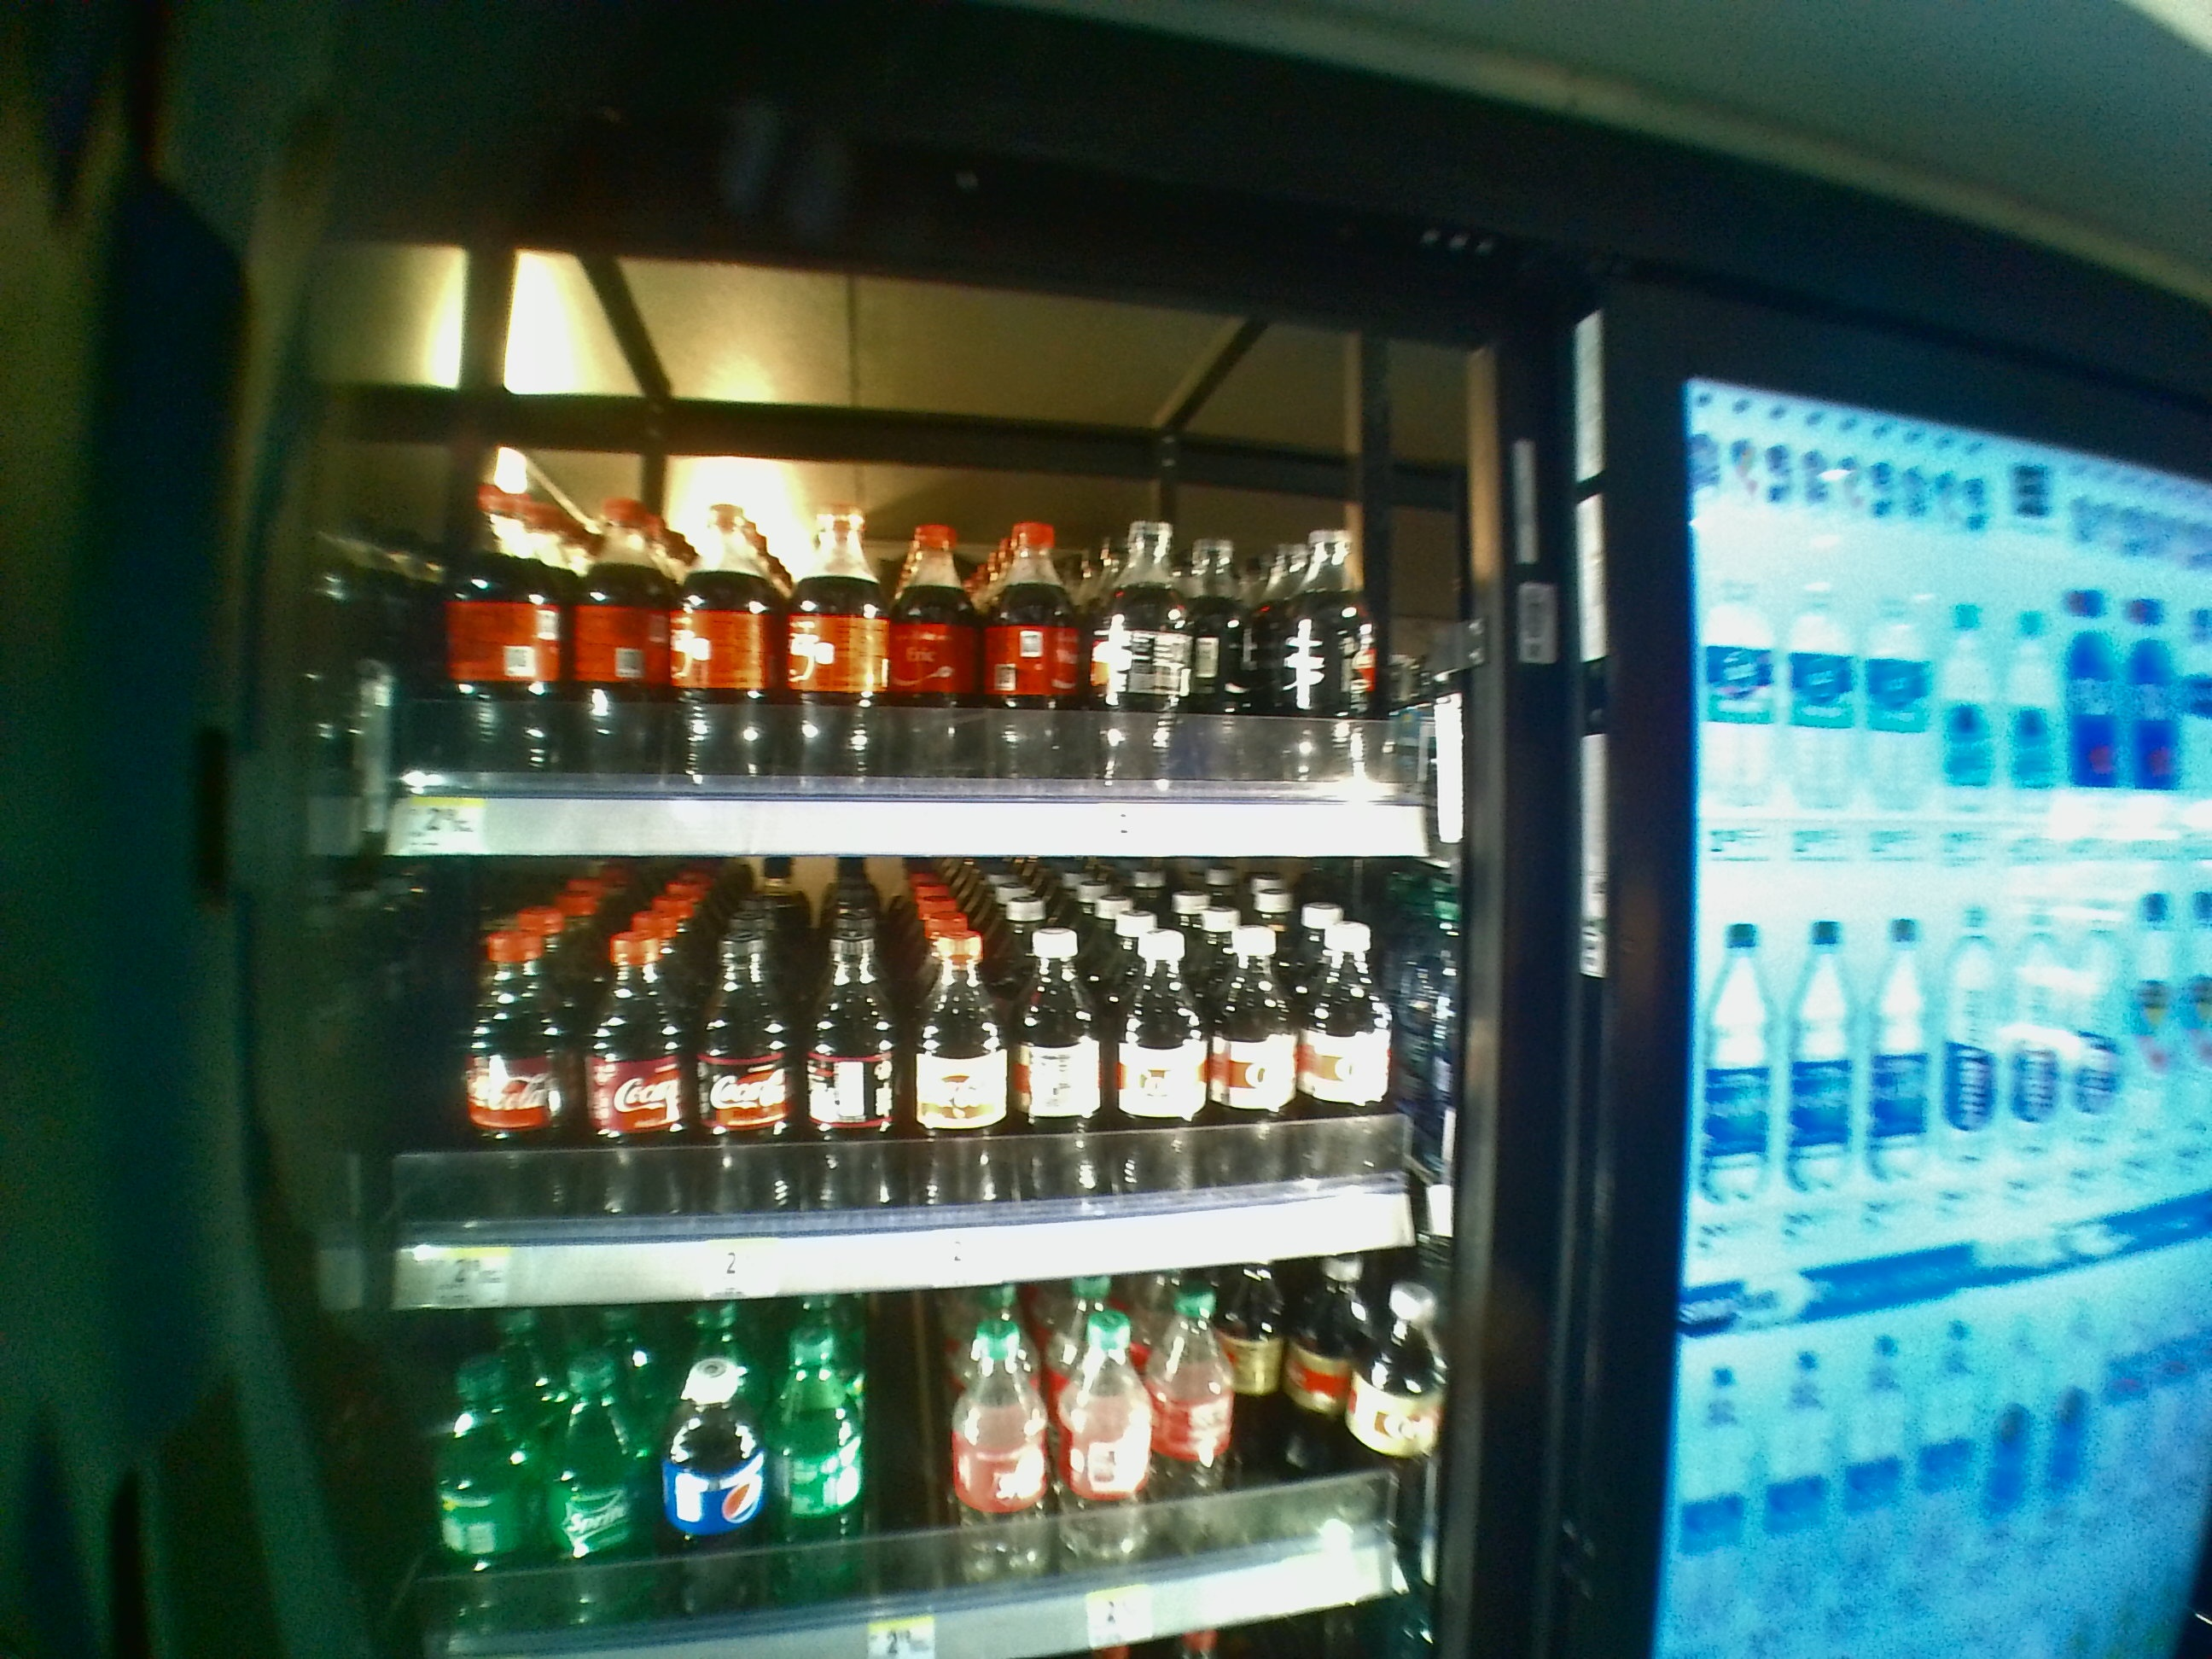shelf: (347, 227, 1486, 857), (341, 852, 1496, 1316)
